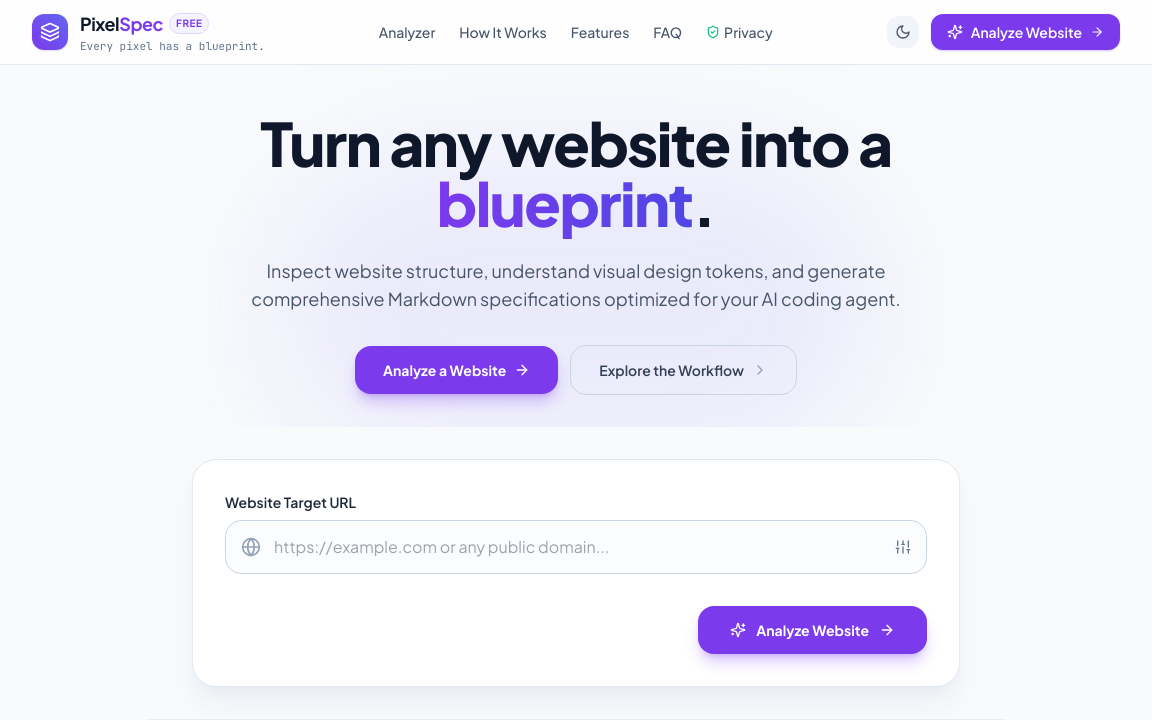
it: PixelSpec End-to-End Workflow Integration › rejects invalid URL input gracefully with visible validation message
Note: Enter invalid text
Step 1. Type "not-a-valid-url" into the field with placeholder "https://example.com or any public domain..." → (576, 547), box [225,520,927,574]
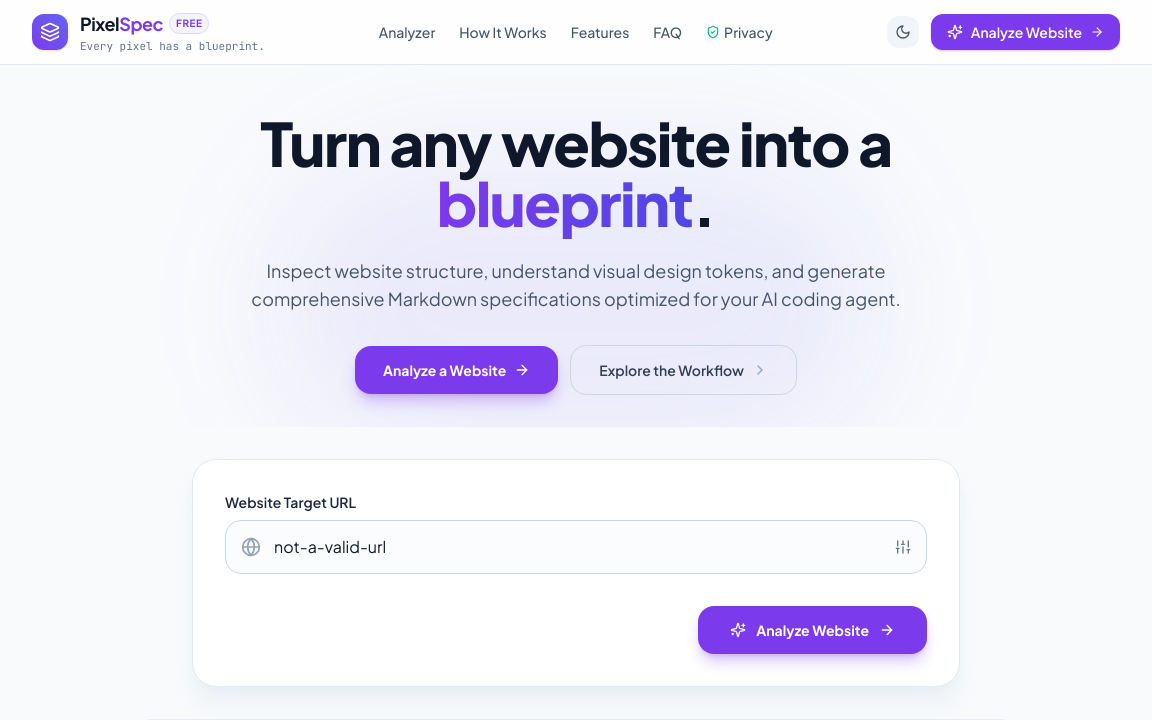
Step 2. Click the submit button → (813, 630), box [698,606,927,654]
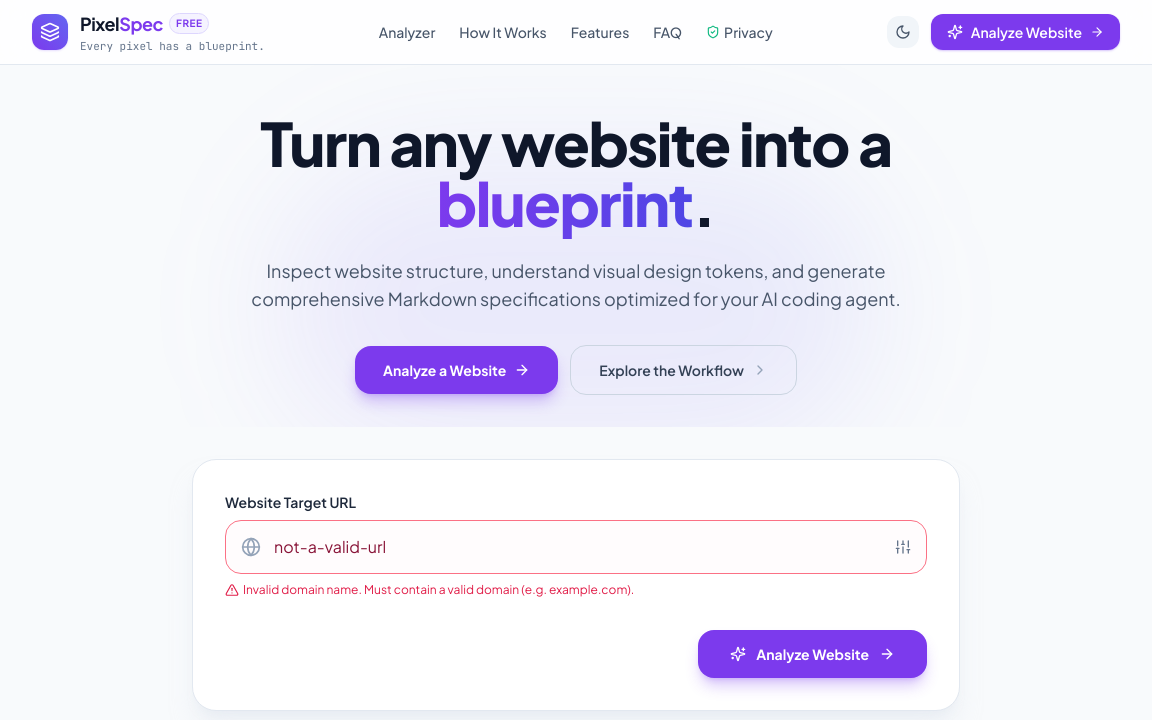
Expected: the text "Invalid domain name" is shown, [243,582,634,597]
